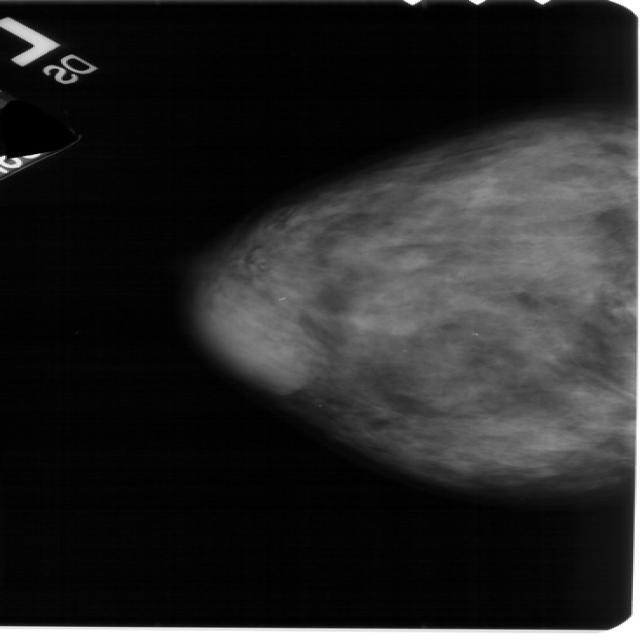tumour: (193, 282, 307, 390)
